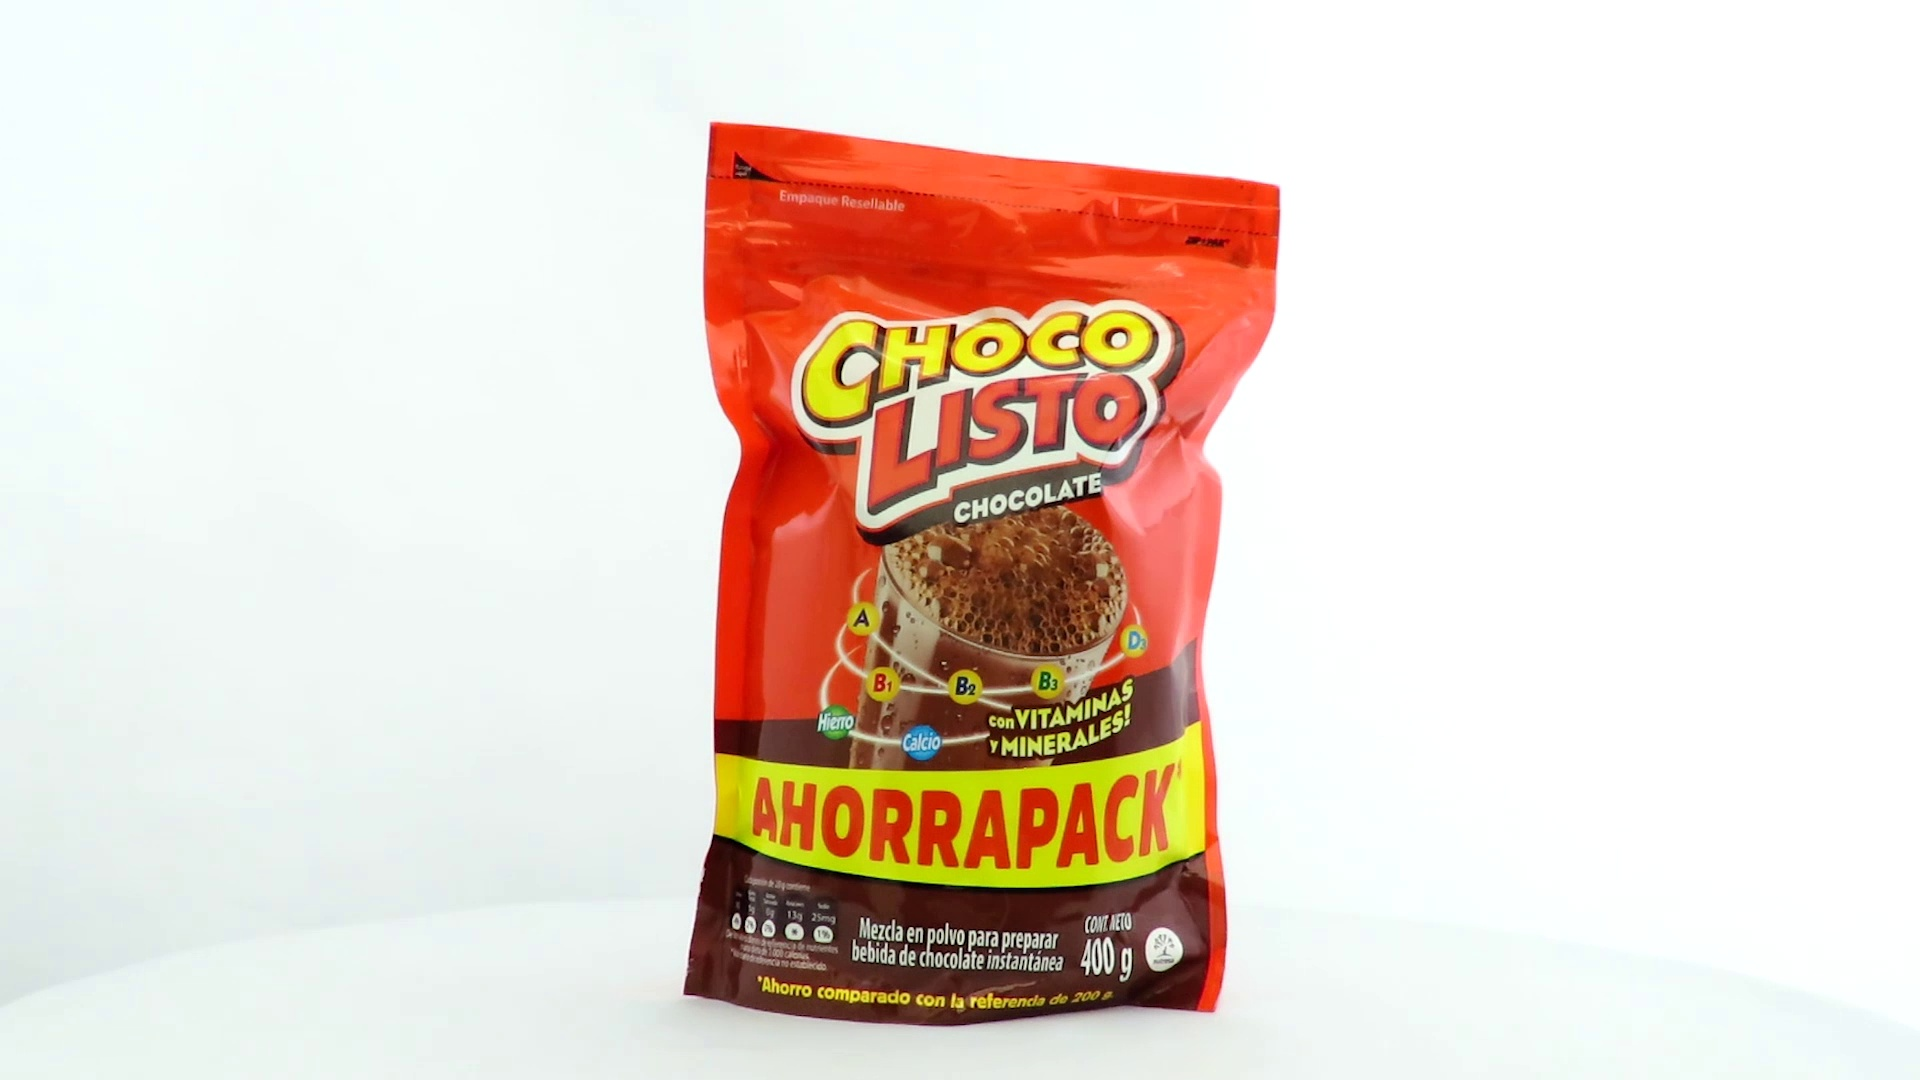COL0170103DYP40000: (678, 117, 1287, 1033)
